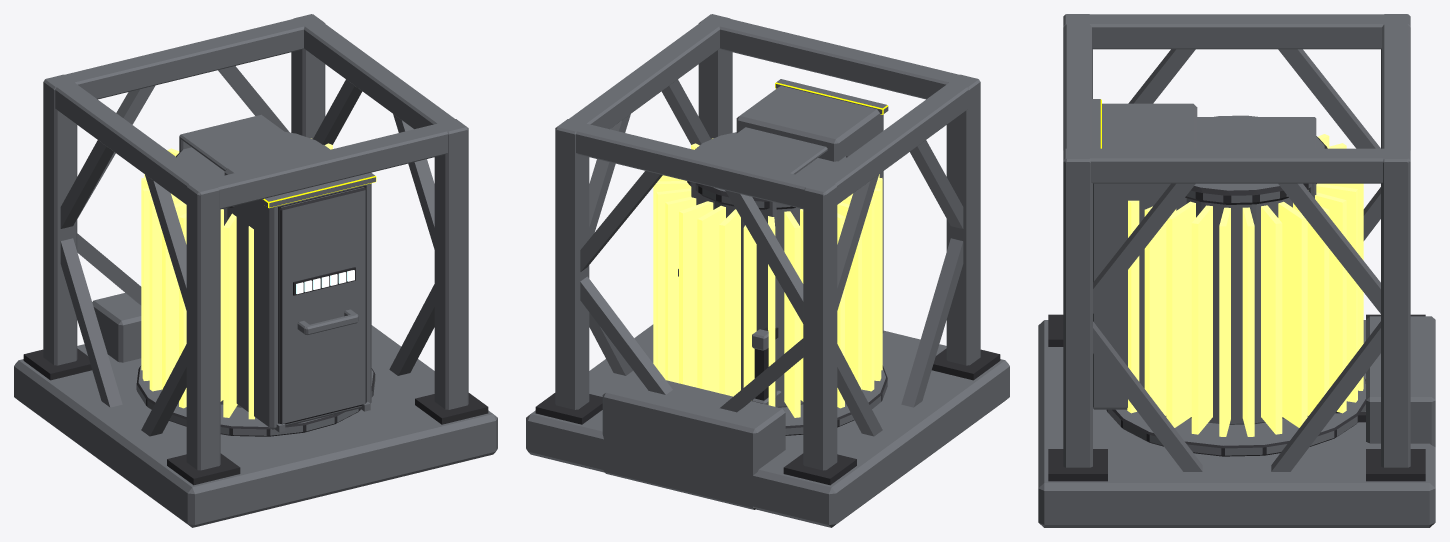
Rendered from ReactorS1.fbx.
3 renders of one model, left to right at view 1: azimuth 30°, elevation 25°; view 2: azimuth 150°, elevation 25°; view 3: azimuth 270°, elevation 25°, orthographic. The views are drawn at different scales.
Visible parts, largest first — view 1: Frame, Cartridge, Drum, Fins; view 2: Frame, Fins, Drum, Cartridge, Wiring; view 3: Frame, Fins, Drum, Cartridge.
Boxes of the visible parts, x1=… form: Frame: x1=14, y1=14, x2=497, y2=527; Cartridge: x1=179, y1=114, x2=366, y2=424; Drum: x1=136, y1=132, x2=376, y2=436; Fins: x1=141, y1=138, x2=332, y2=419; Frame: x1=526, y1=14, x2=1009, y2=527; Fins: x1=653, y1=138, x2=882, y2=417; Drum: x1=687, y1=79, x2=888, y2=435; Cartridge: x1=691, y1=127, x2=827, y2=397; Wiring: x1=678, y1=269, x2=778, y2=404; Frame: x1=1038, y1=14, x2=1435, y2=527; Fins: x1=1127, y1=134, x2=1363, y2=436; Drum: x1=1092, y1=99, x2=1365, y2=456; Cartridge: x1=1197, y1=117, x2=1316, y2=198.
Size of the model in its own units: 2 by 2 by 2.
